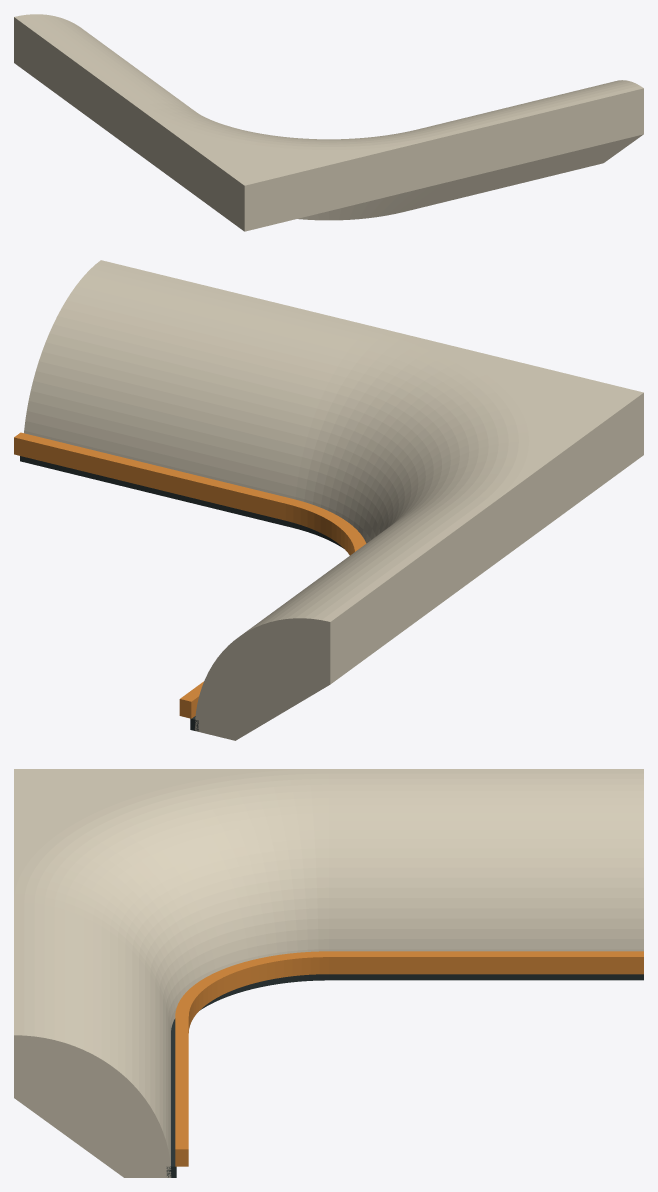
Rendered from roof-inner-corner-2m.glb.
3 renders of one model, top to bottom at view 1: azimuth 30°, elevation 25°; view 2: azimuth 150°, elevation 25°; view 3: azimuth 270°, elevation 25°, orthographic. The views are drawn at different scales.
Parts seen in each view (by area): view 1: roof-inner-corner-2m / 01 • warm porcelain paint; view 2: roof-inner-corner-2m / 01 • warm porcelain paint, roof-inner-corner-2m / 03 • ochre enamel, roof-inner-corner-2m / 04 • graphite gasket; view 3: roof-inner-corner-2m / 01 • warm porcelain paint, roof-inner-corner-2m / 03 • ochre enamel, roof-inner-corner-2m / 04 • graphite gasket.
Boxes of the visible parts, box(x1,y1,x2,y2) form: roof-inner-corner-2m / 01 • warm porcelain paint: box(14, 14, 643, 231); roof-inner-corner-2m / 01 • warm porcelain paint: box(24, 260, 643, 740); roof-inner-corner-2m / 03 • ochre enamel: box(14, 432, 366, 718); roof-inner-corner-2m / 04 • graphite gasket: box(20, 456, 343, 731); roof-inner-corner-2m / 01 • warm porcelain paint: box(14, 769, 643, 1177); roof-inner-corner-2m / 03 • ochre enamel: box(175, 951, 643, 1166); roof-inner-corner-2m / 04 • graphite gasket: box(166, 974, 643, 1177).
Size of the model in its own units: 2 by 0.5 by 2.
